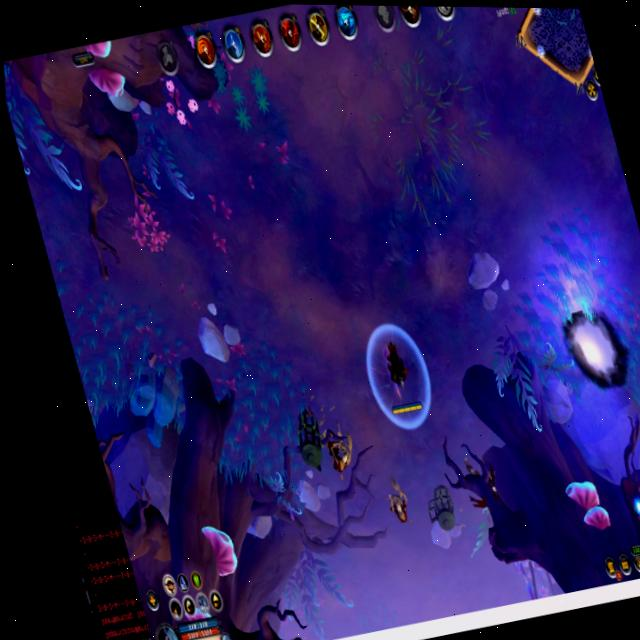hide: (379, 473, 419, 532)
ore: (453, 445, 507, 518)
red: (367, 323, 430, 422), (316, 418, 361, 480)
